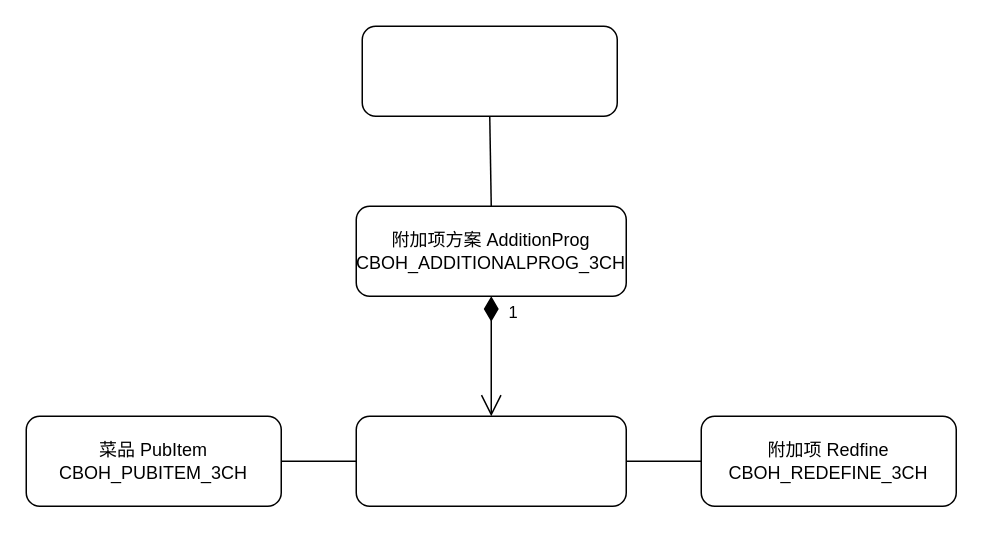
Some shapes in this 983 by 533 pixel diagram are drawn without their labels. The box of each missing label's shape, as (x1, y1, x2, y2) in pixels:
门店 Store CBOH_STORE_3CH: (361, 25, 617, 116)
附加项方案明细 AdditionProgDtl CBOH_ADDITIONALPROGDTL_3CH: (355, 415, 626, 506)
